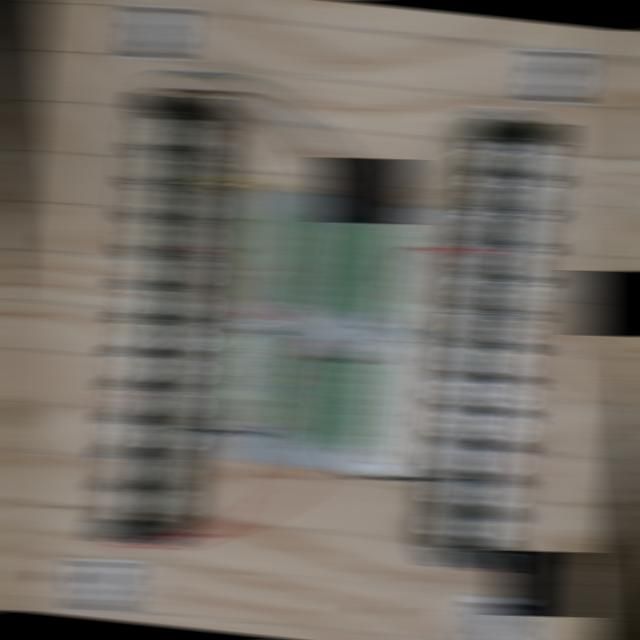Flathead_Block: (96, 91, 218, 547)
Phillips_Block: (432, 115, 561, 573)
Terminal_1: (243, 208, 291, 306), (230, 329, 277, 426)
Terminal_2: (312, 357, 360, 451), (286, 354, 333, 447), (300, 218, 347, 310), (355, 226, 402, 318), (328, 222, 374, 314)
